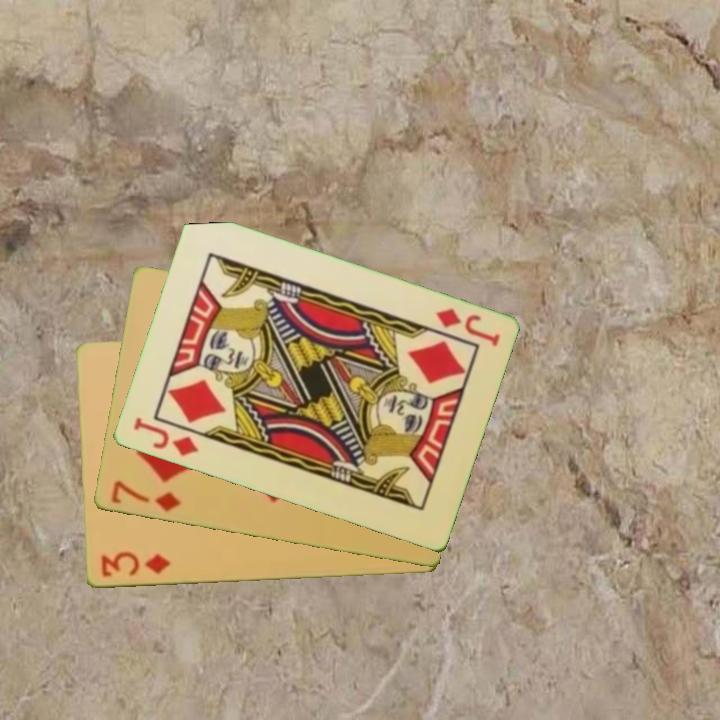3d: (97, 549, 173, 580)
7d: (107, 477, 183, 515)
Jd: (129, 414, 201, 460), (431, 305, 503, 350)
